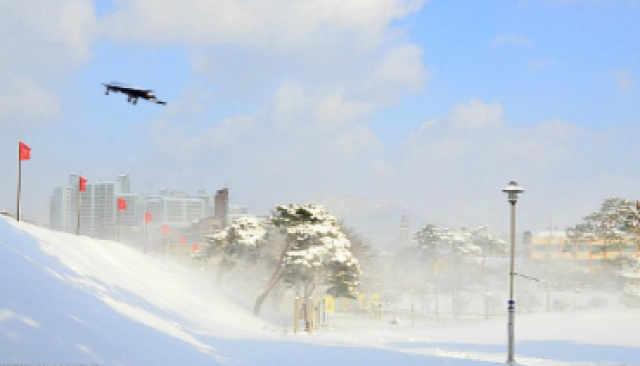military drone: (99, 80, 168, 106)
